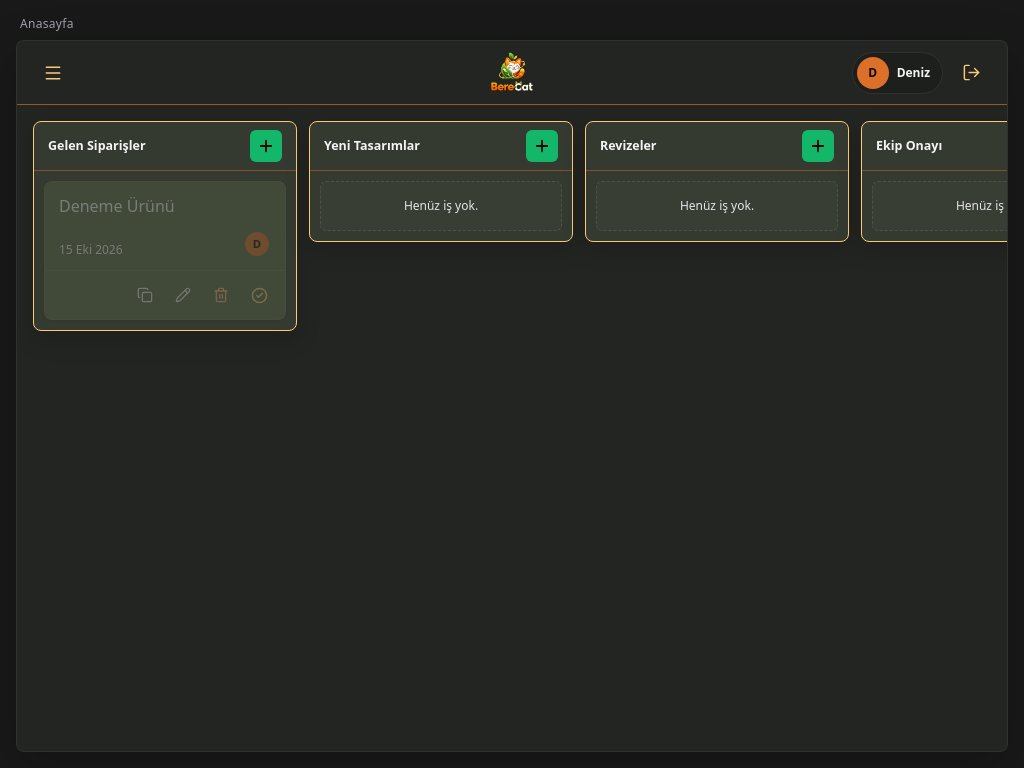
Scenario: Phase 02A iş oluşturma akışı › formda beş grup ve tam Excel sütun alanlarını gösterir
Click the button named "Gelen Siparişler modülüne iş ekle" at [266, 146], box [250,130,282,162]
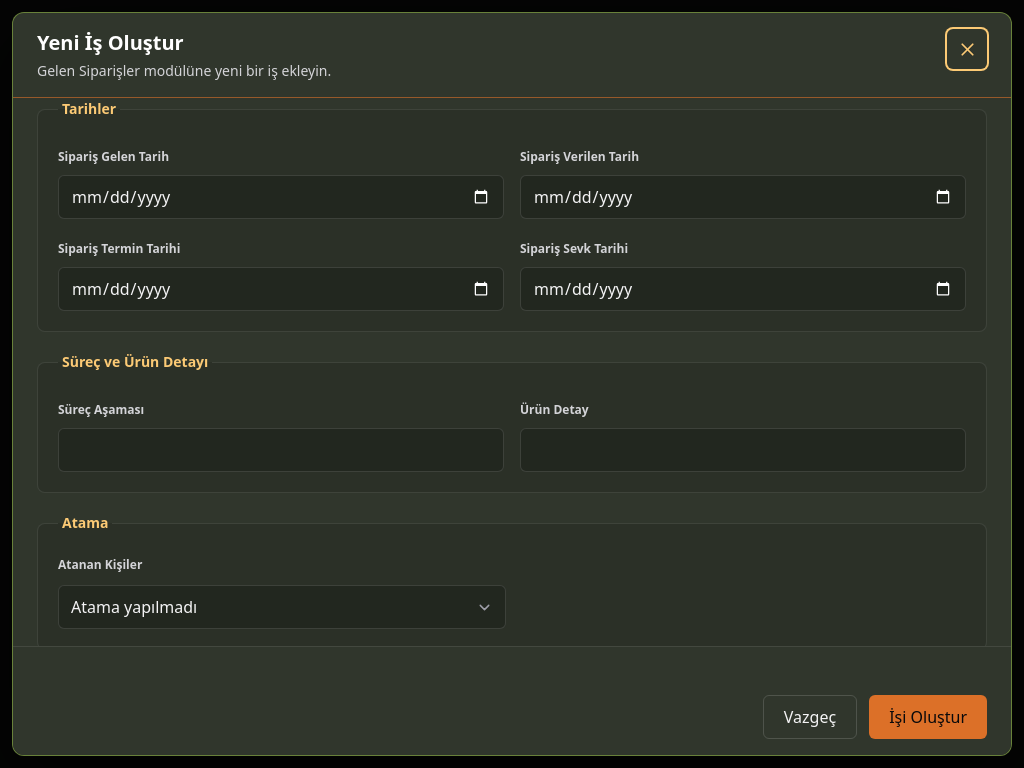
Now the text "Tarihler" is shown, box [58,99,120,119]
Now the text "Süreç ve Ürün Detayı" is shown, box [58,352,212,372]
Now the text "Atama" is shown, box [58,513,112,533]
